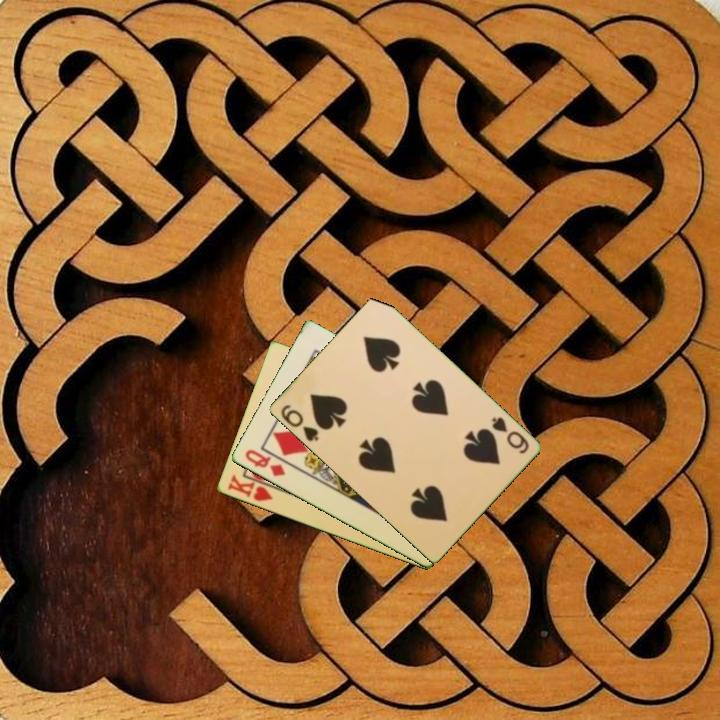6s: (277, 401, 321, 444), (488, 413, 531, 457)
Kh: (224, 471, 281, 505)
Qd: (241, 446, 288, 480)
